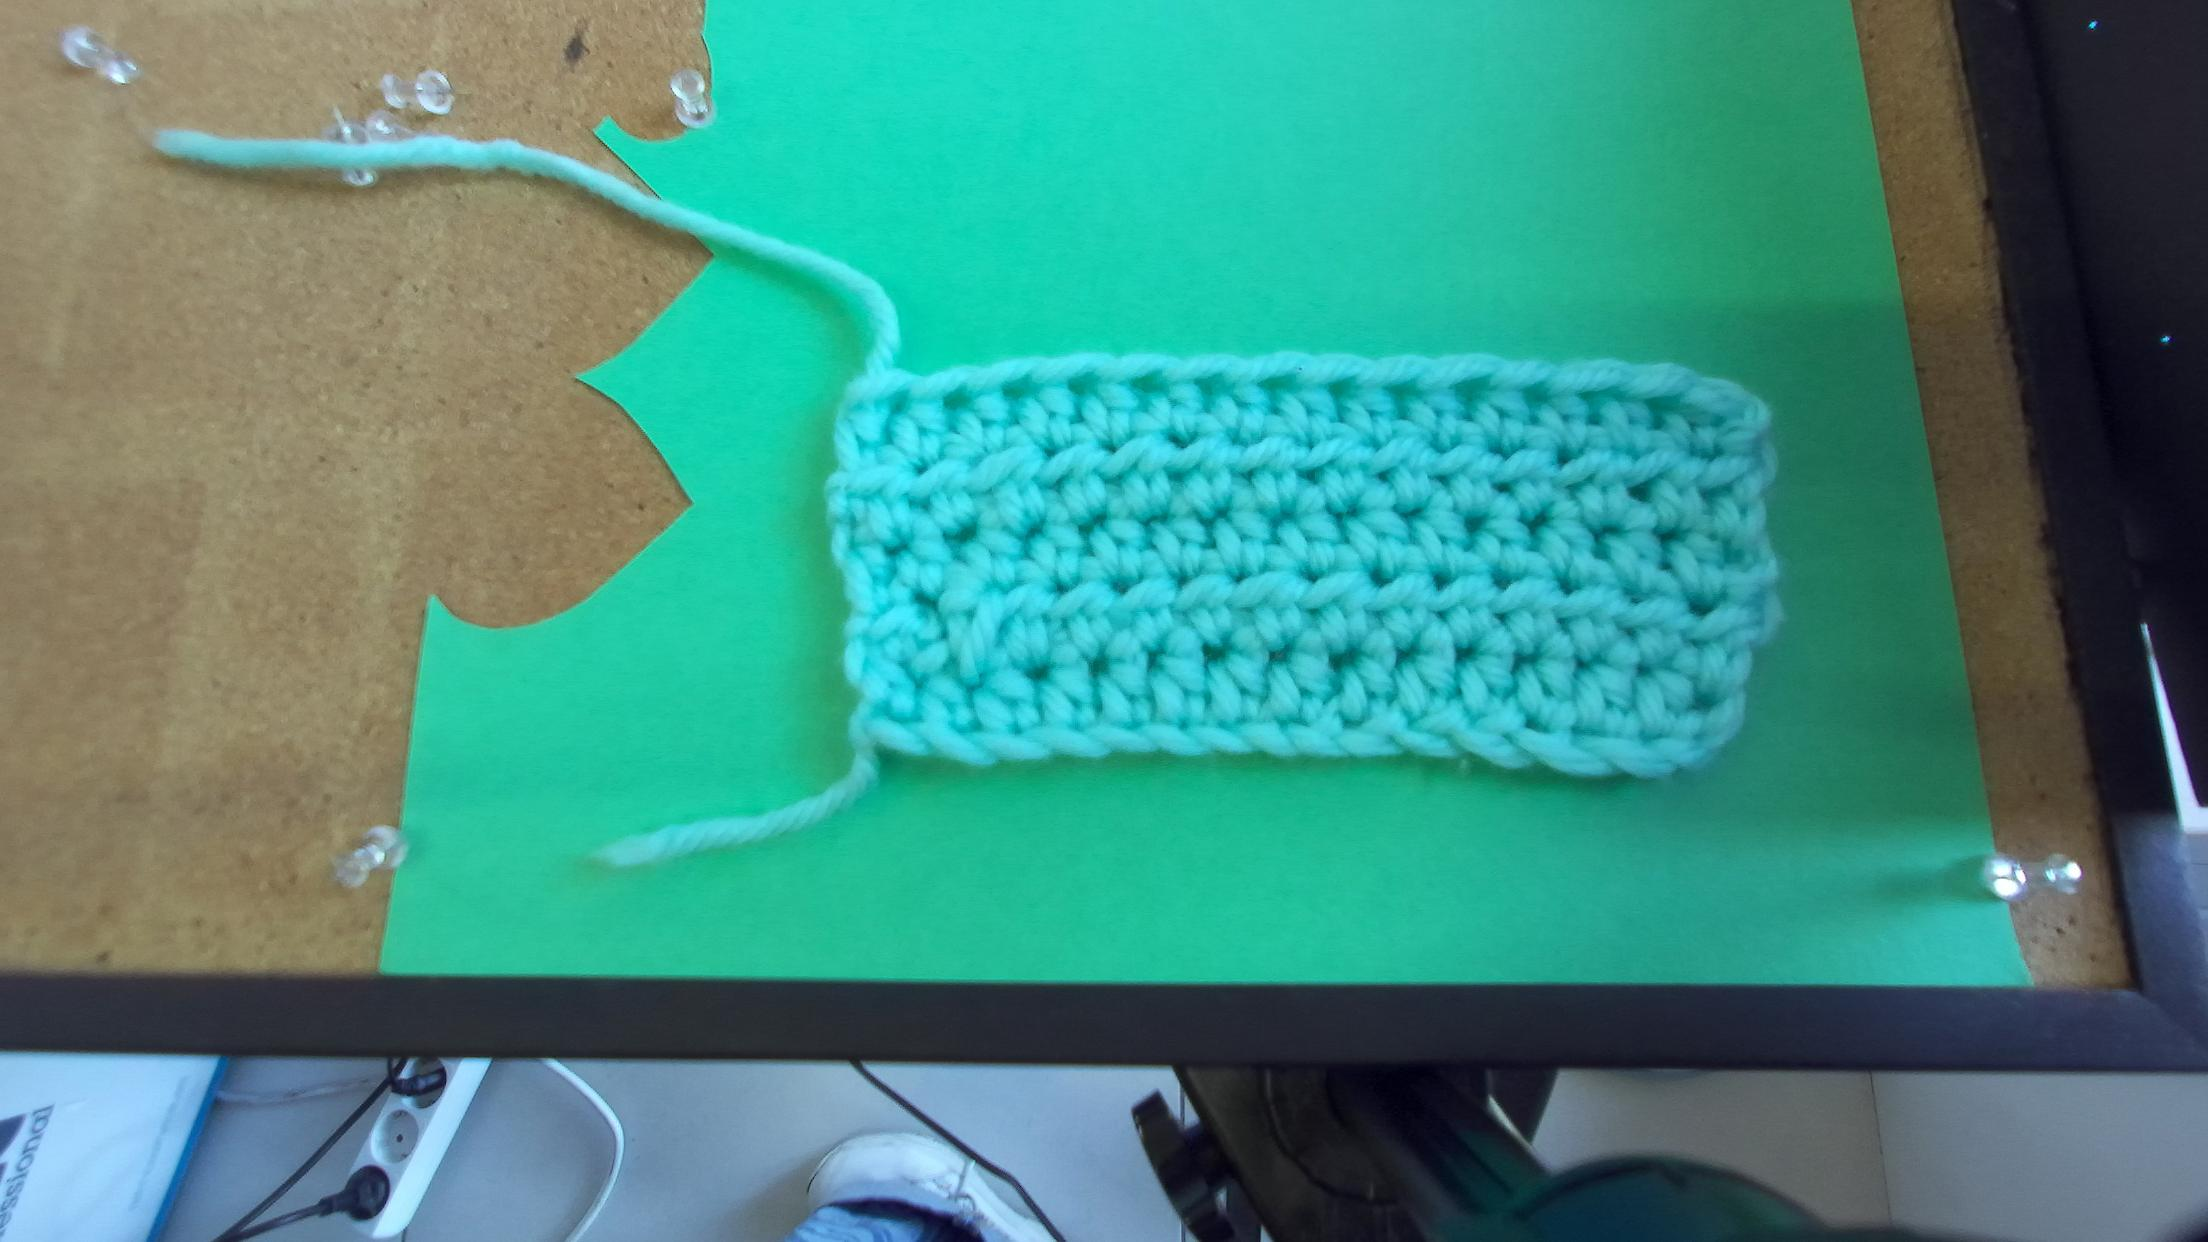hole: (1001, 373, 1034, 402), (1447, 376, 1490, 398), (1131, 369, 1166, 395), (941, 381, 969, 411), (1389, 381, 1423, 403), (1326, 376, 1358, 397), (1067, 373, 1097, 395), (1255, 375, 1293, 392), (1641, 394, 1678, 410), (885, 389, 908, 414), (1578, 386, 1613, 402), (1522, 383, 1546, 406), (1198, 372, 1222, 394)
swatch: (828, 357, 1786, 784)
